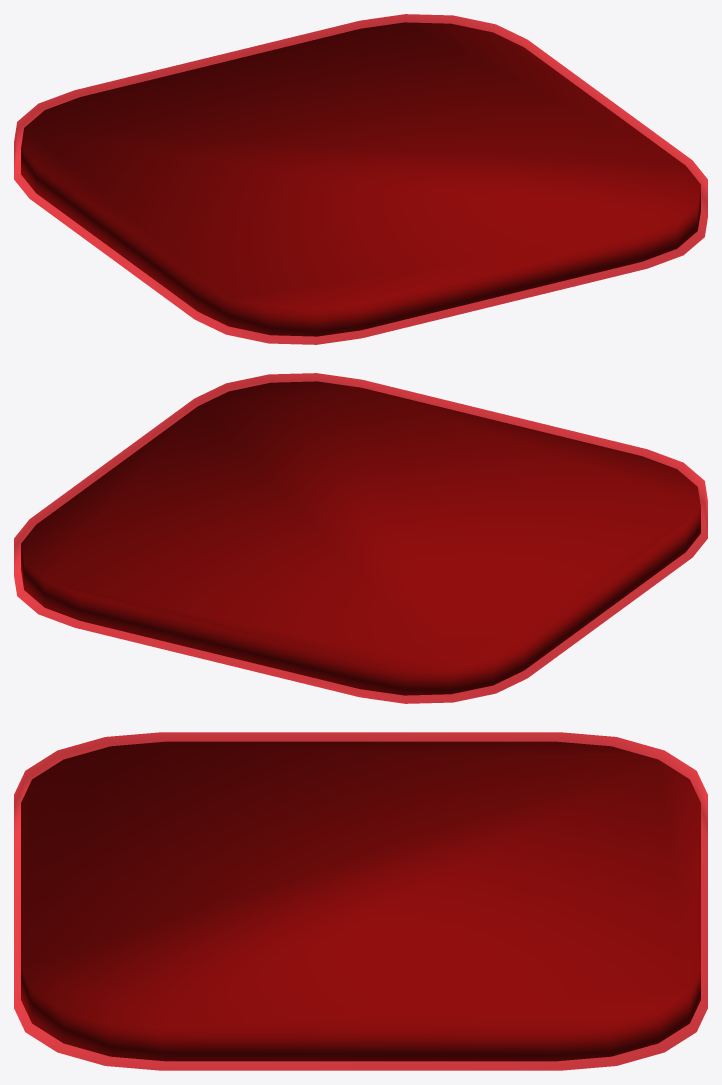
The model's file is bounceTrap.glb.
3 renders of one model, top to bottom at view 1: azimuth 30°, elevation 25°; view 2: azimuth 150°, elevation 25°; view 3: azimuth 270°, elevation 25°, orthographic. The views are drawn at different scales.
Parts seen in each view (by area): view 1: BounceTrap, BounceTrapOutline; view 2: BounceTrap, BounceTrapOutline; view 3: BounceTrap, BounceTrapOutline.
Part boxes in pixels (x1,y1,x2,y2): BounceTrap: (21, 22, 700, 336); BounceTrapOutline: (14, 14, 707, 344); BounceTrap: (21, 381, 700, 695); BounceTrapOutline: (14, 373, 707, 703); BounceTrap: (21, 741, 700, 1061); BounceTrapOutline: (14, 732, 707, 1070).
Size of what is drawn, in the model's own units: 2.53 by 0.1816 by 2.53.
2 materials, 2 textured.
